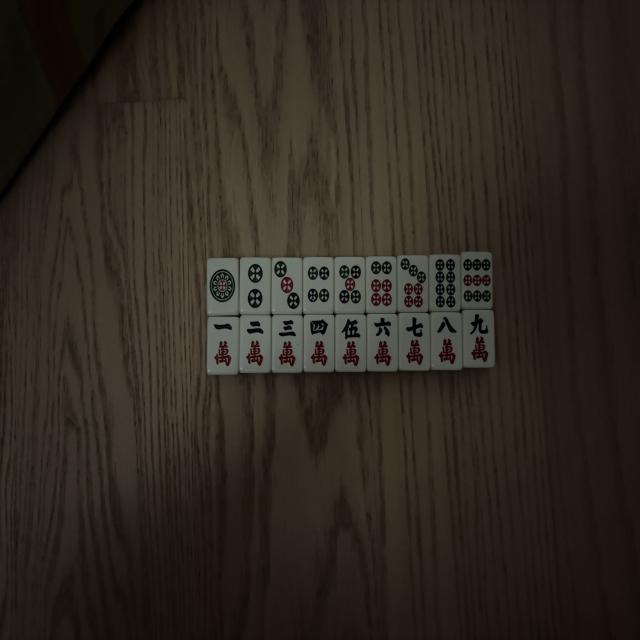m1: (207, 316, 239, 374)
m2: (240, 316, 272, 372)
m3: (272, 317, 304, 374)
m4: (304, 315, 334, 372)
m5: (336, 314, 366, 371)
m6: (369, 315, 398, 372)
m7: (398, 315, 429, 372)
m8: (433, 313, 463, 370)
m9: (464, 311, 497, 368)
t1: (206, 259, 239, 316)
t2: (239, 257, 271, 314)
t3: (272, 258, 304, 315)
t4: (304, 259, 335, 315)
t5: (337, 257, 367, 314)
t6: (366, 257, 397, 313)
t7: (399, 258, 430, 314)
t8: (430, 256, 460, 312)
t9: (461, 253, 492, 310)
